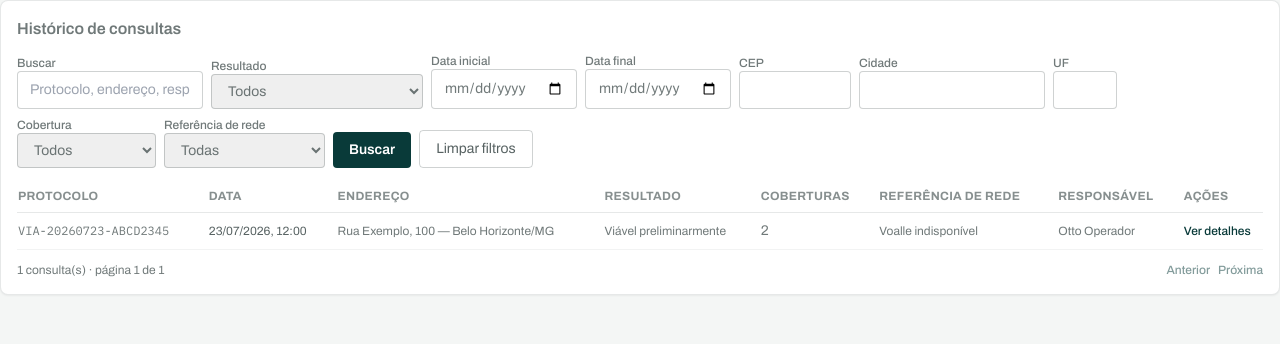
Test: detalhes da consulta › trata CONSULTATION_NOT_FOUND e CONSULTATION_ACCESS_DENIED com mensagens claras
Click the button "Ver detalhes" at (1217, 231), box [1184,223,1251,239]
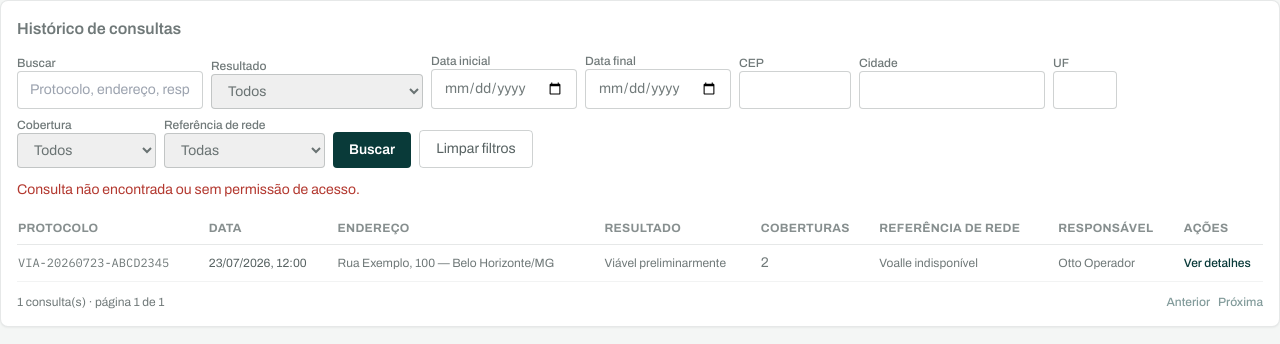
Expected: the message shows "Consulta não encontrada ou sem permissão", [17,182,360,197]
Click the button "Ver detalhes" at (1217, 263), box [1184,255,1251,271]
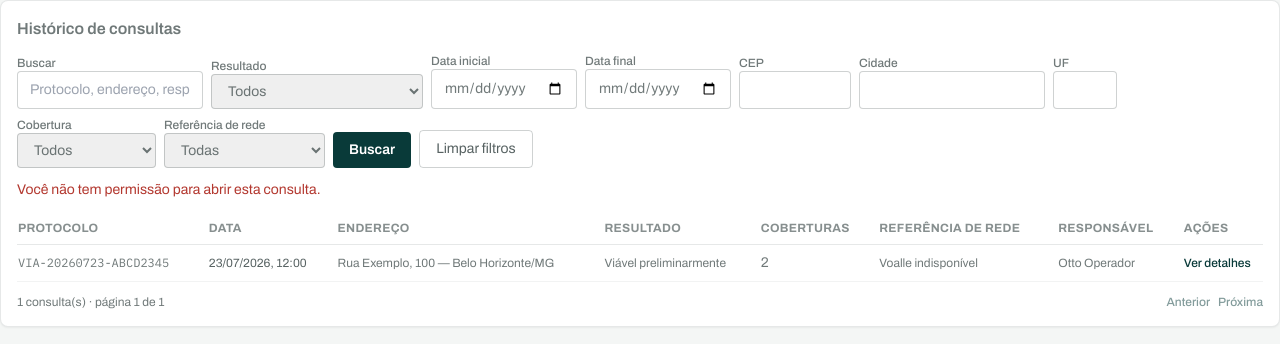
Expected: the message reads "Você não tem permissão para abrir esta consulta.", [17,182,320,197]
